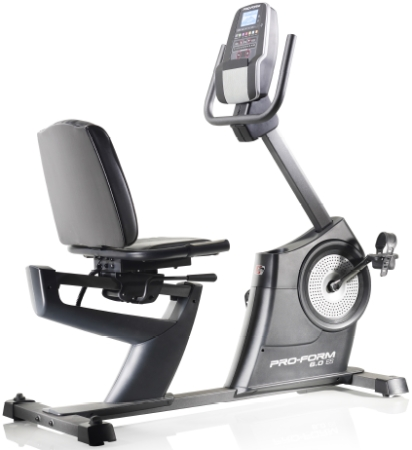gym_bike: (3, 1, 409, 444)
